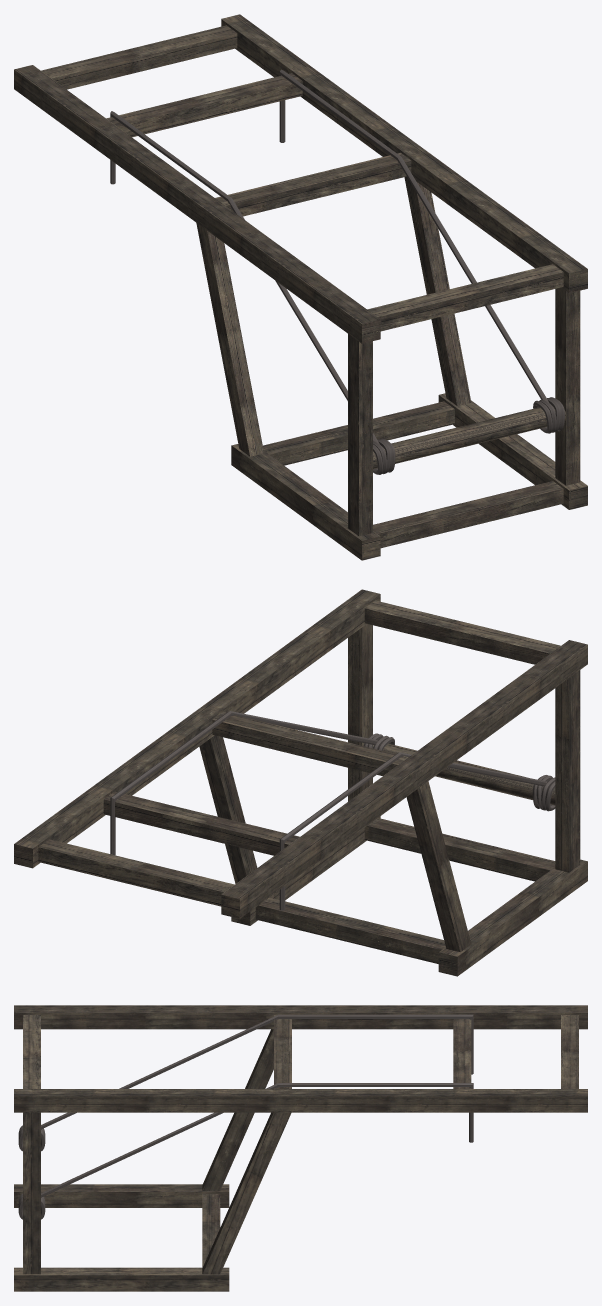
The model's file is well_scaffold_00.FBX.
The picture shows the model from 3 angles, top to bottom: view 1: azimuth 30°, elevation 25°; view 2: azimuth 150°, elevation 25°; view 3: azimuth 270°, elevation 25°; orthographic projection. The views are drawn at different scales.
Visible parts, largest first — view 1: Box02, Line03; view 2: Box02, Line03; view 3: Box02, Line03.
Part boxes in pixels (x1,y1,x2,y2): Box02: [14, 14, 587, 560]; Line03: [110, 69, 564, 474]; Box02: [14, 589, 587, 976]; Line03: [110, 711, 555, 910]; Box02: [14, 1005, 587, 1291]; Line03: [18, 1014, 473, 1219].
Bounding box in the file's own units: 192 × 512 × 194.
